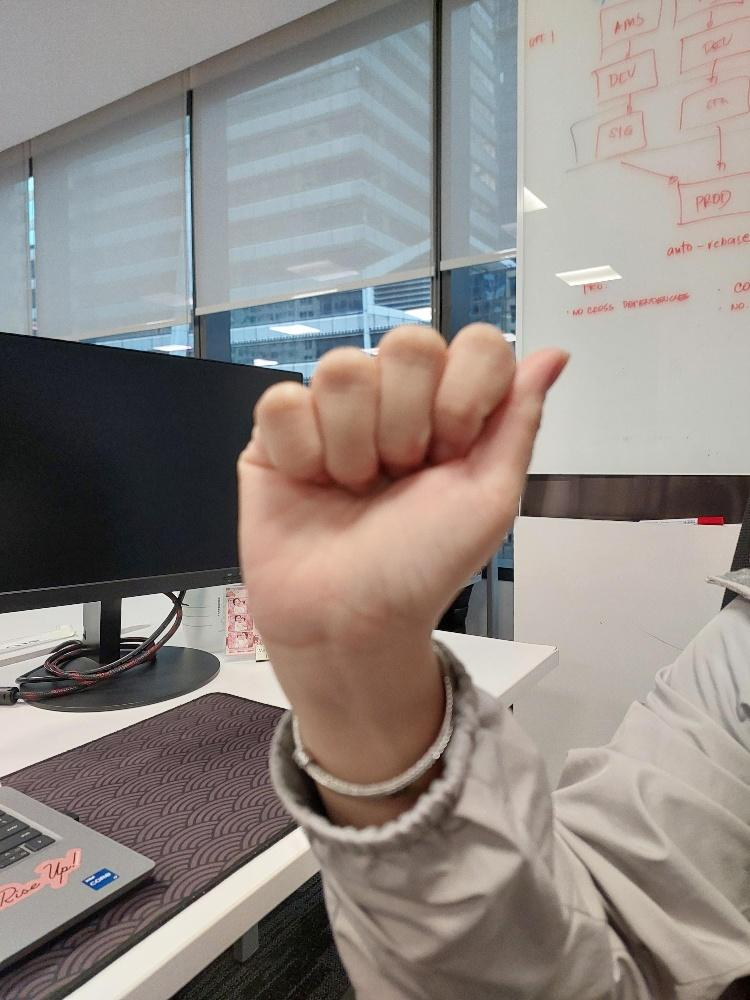a: (238, 322, 570, 633)
